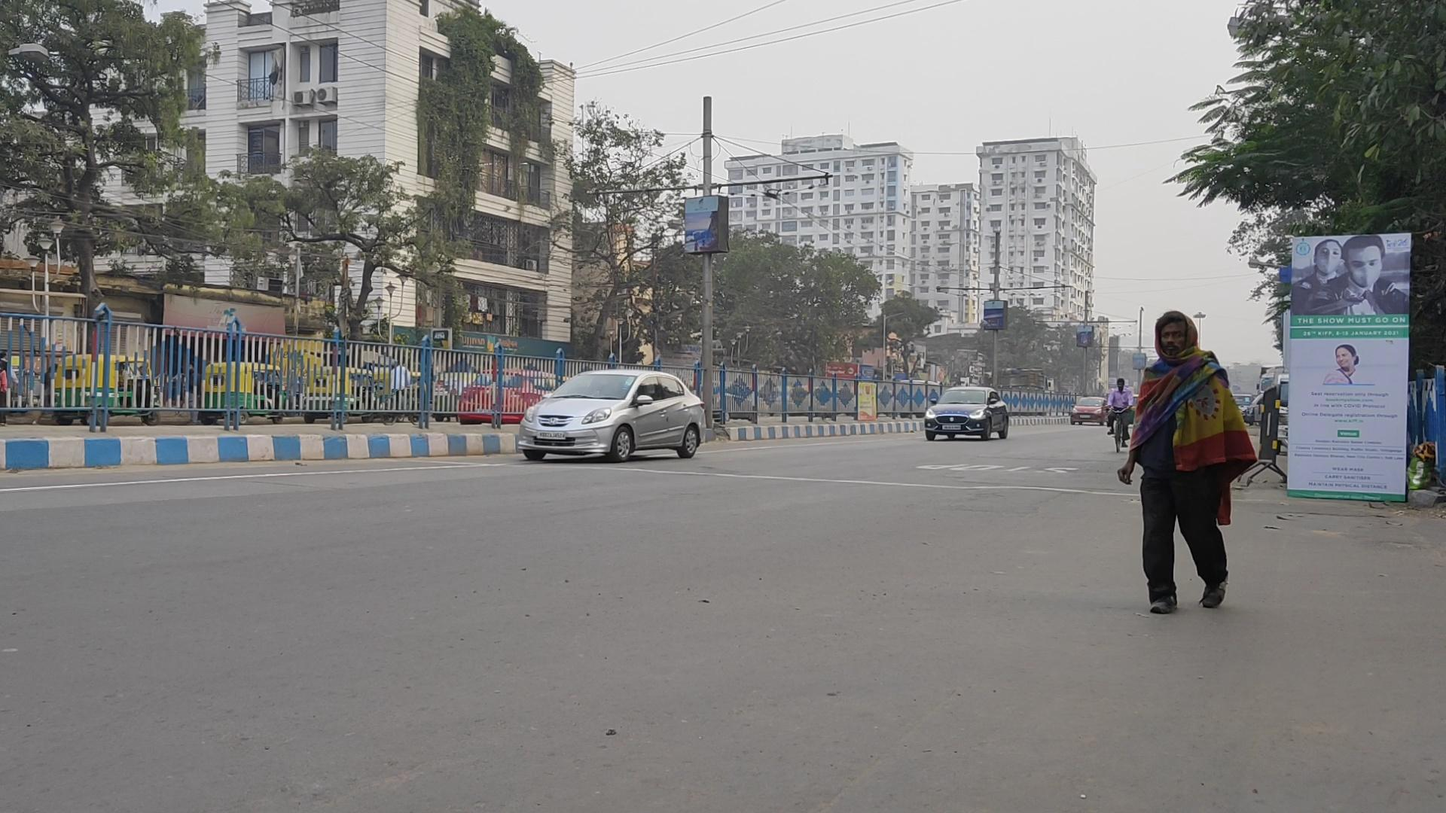bike: (1107, 377, 1133, 453)
car: (517, 368, 706, 464), (923, 383, 1009, 443), (1070, 395, 1109, 429)
